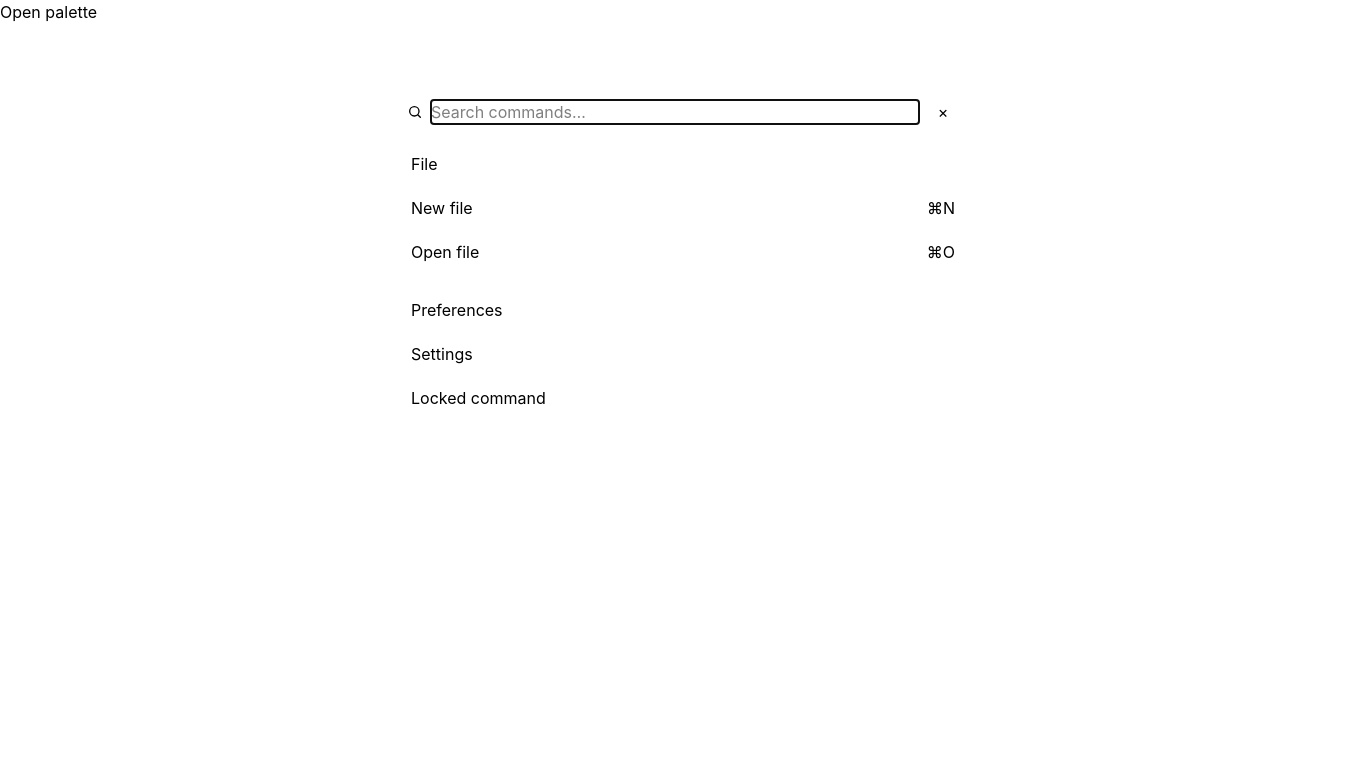
Scenario: CommandPalette › filters commands by label and keywords, case-insensitively
Type "new" into the dropdown at x=675, y=112, box left=431, top=100, right=919, bottom=124
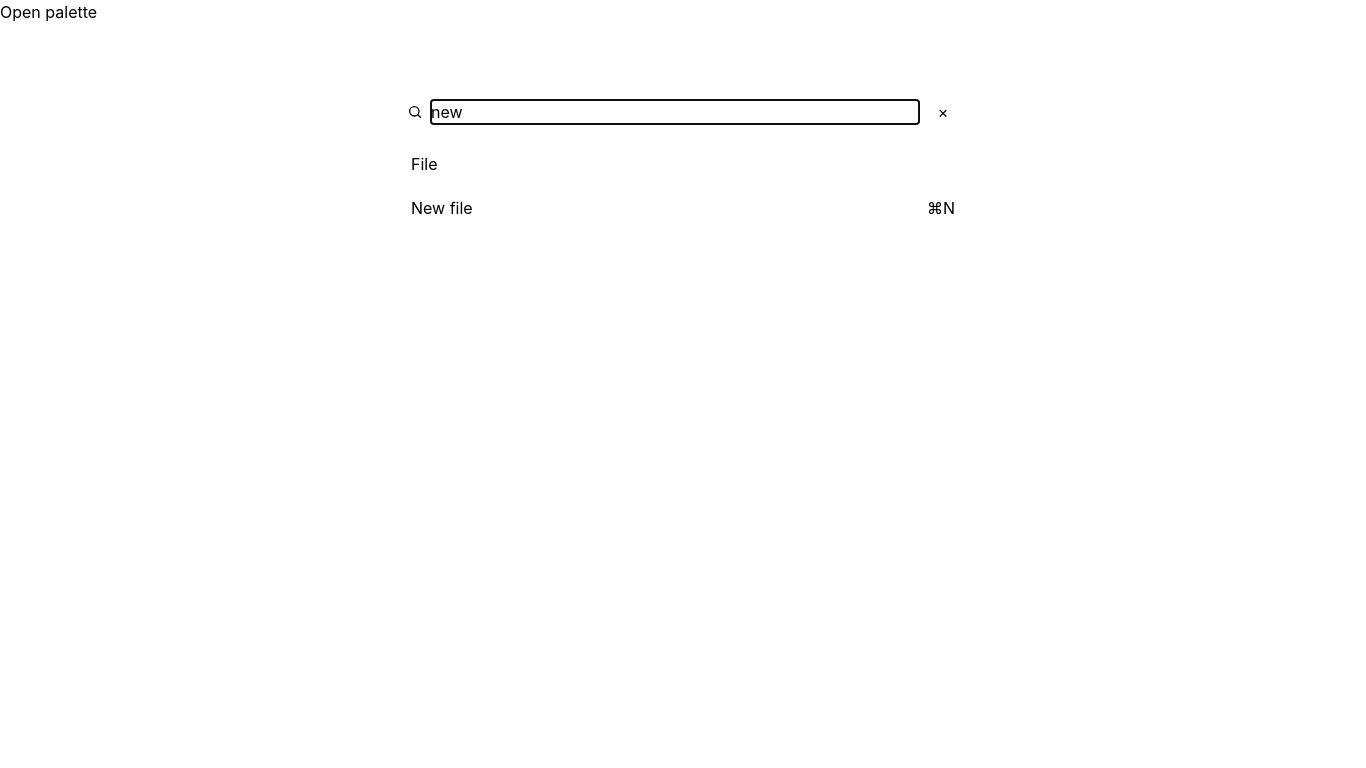
Expected: the option "New file ⌘N" is shown, left=411, top=198, right=955, bottom=218
Result: the option "Open file" is gone
Replace the text in the dropdown with "CREATE" at x=675, y=112, box left=431, top=100, right=919, bottom=124
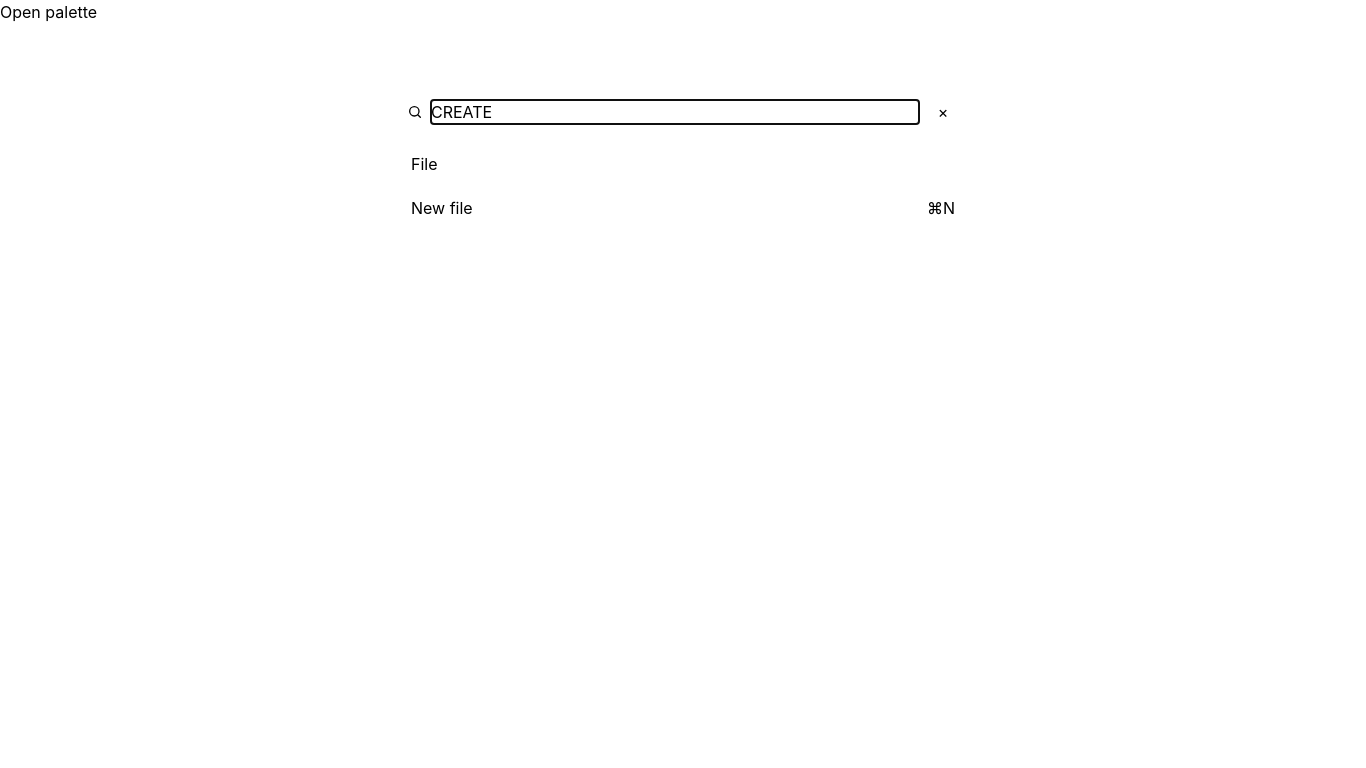
Expected: the option "New file ⌘N" is shown, left=411, top=198, right=955, bottom=218
Expected: the option "Settings" is not shown
Replace the text in the dropdown with "theme" at x=675, y=112, box left=431, top=100, right=919, bottom=124
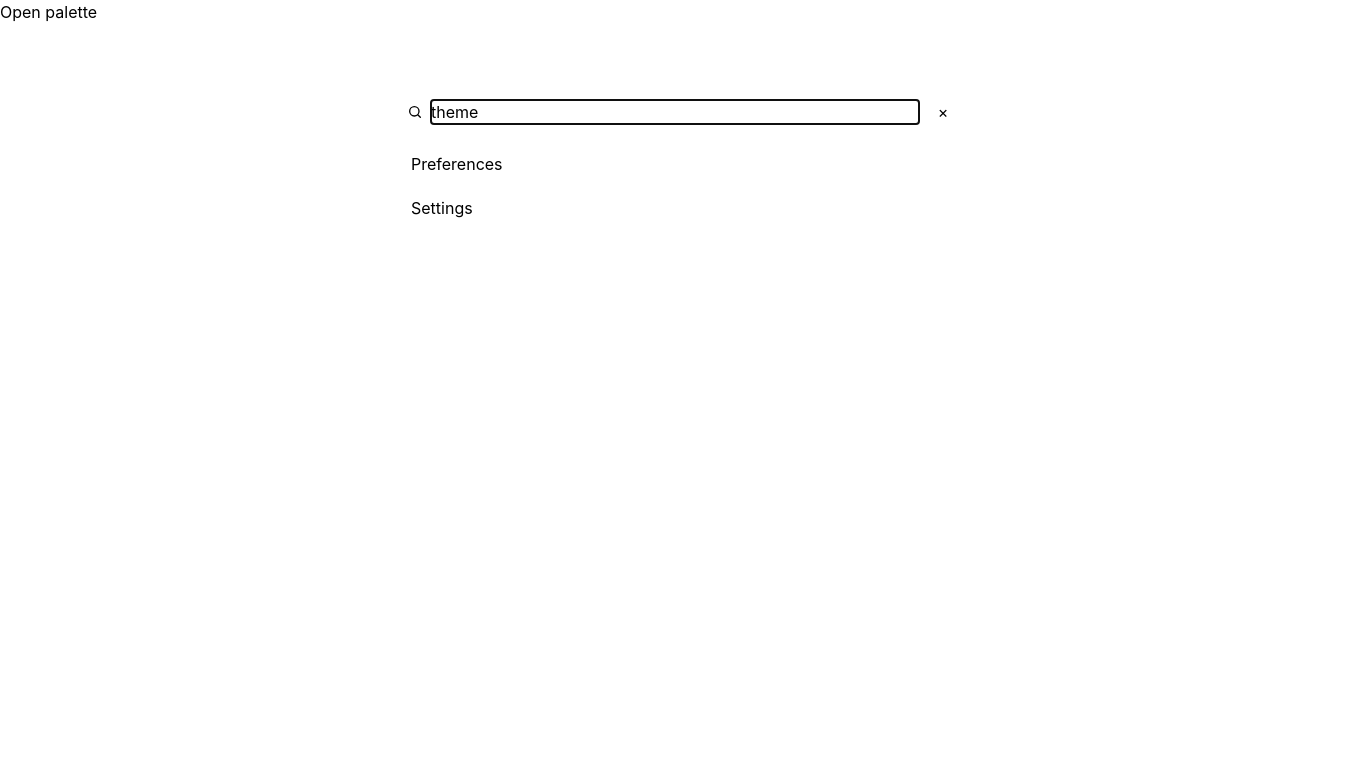
Result: the option "Settings" is shown at left=411, top=198, right=473, bottom=218
Result: the option "New file" is gone
